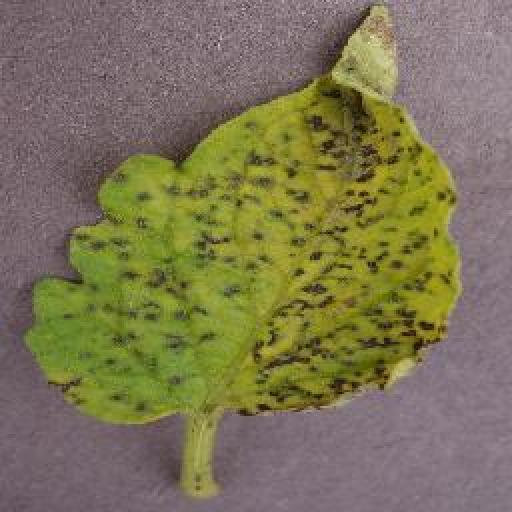disease_tomato: (26, 9, 460, 427)
